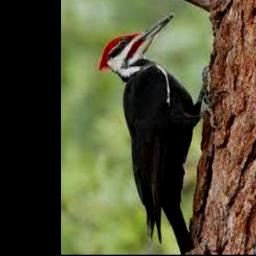Woodpecker: (99, 13, 224, 254)
